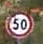limite 50: (5, 8, 34, 39)
